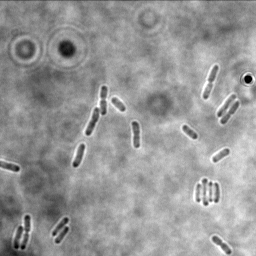Dividing: (202, 63, 220, 100), (219, 100, 241, 126), (216, 92, 237, 118), (84, 106, 101, 137), (210, 234, 233, 255), (20, 214, 33, 251), (131, 119, 142, 149), (99, 84, 109, 116)
Microcolony: (193, 177, 221, 206)
Rod: (71, 142, 87, 168), (51, 215, 70, 236), (54, 226, 71, 245), (0, 158, 21, 173), (181, 123, 199, 140), (211, 147, 230, 163), (111, 95, 127, 113)
